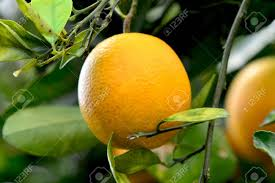orange: (74, 33, 196, 149)
